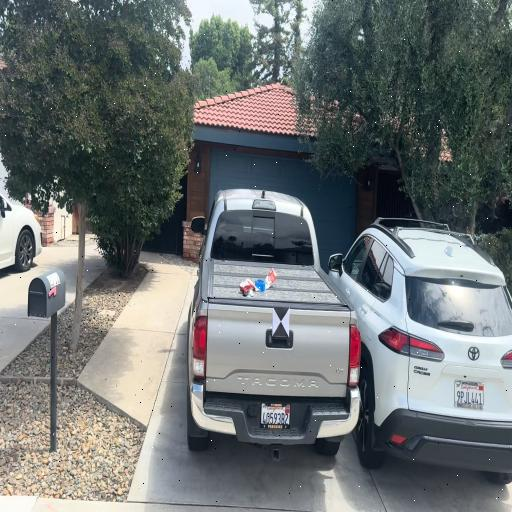target: (273, 307, 290, 337)
